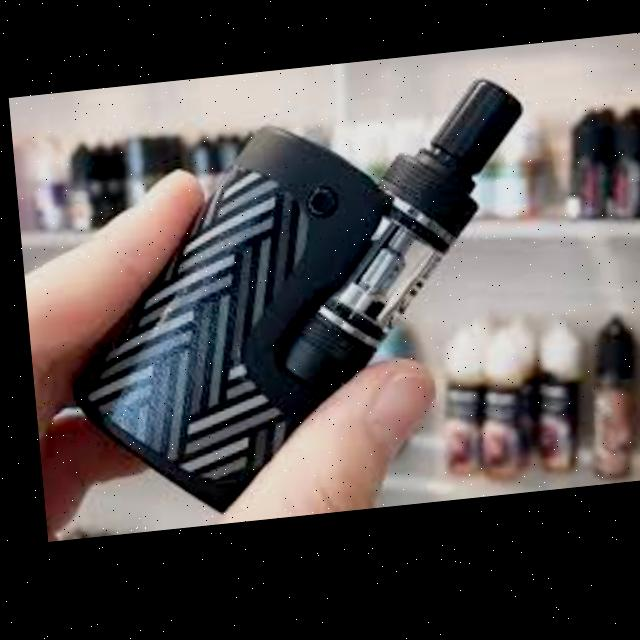vape: (46, 85, 546, 530)
